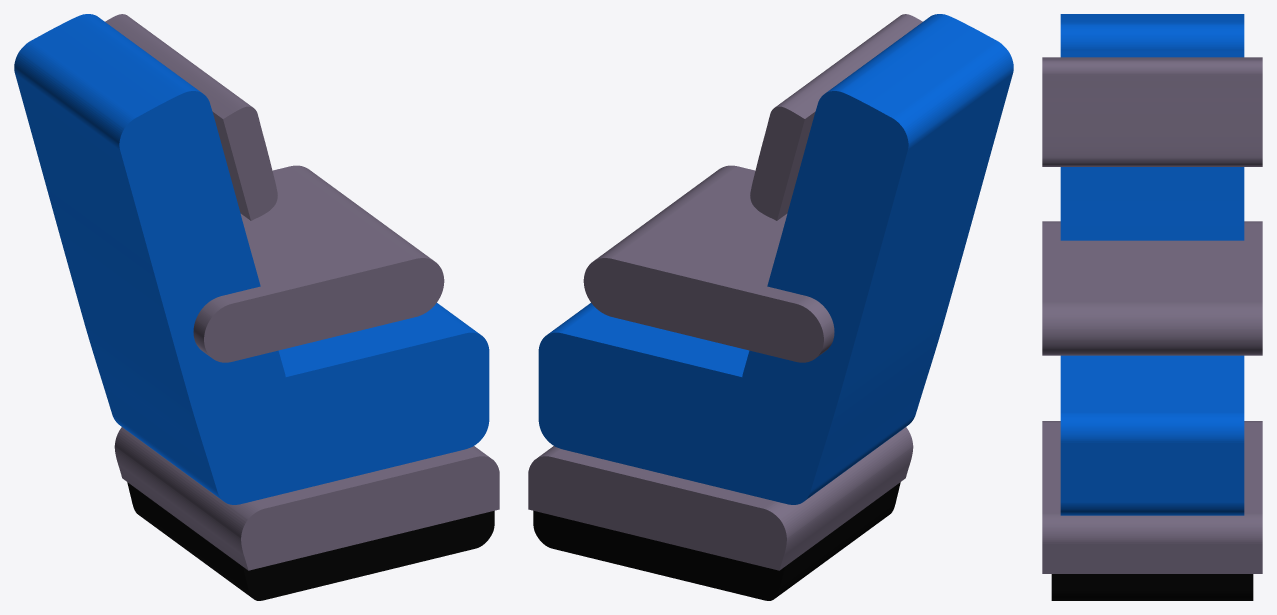
The picture shows the model from 3 angles, left to right: view 1: azimuth 30°, elevation 25°; view 2: azimuth 150°, elevation 25°; view 3: azimuth 270°, elevation 25°; orthographic projection. The views are drawn at different scales.
Visible parts, largest first — view 1: U+1F4BA_layer00_obj00, U+1F4BA_layer02_obj00, U+1F4BA_layer01_obj00; view 2: U+1F4BA_layer00_obj00, U+1F4BA_layer02_obj00, U+1F4BA_layer01_obj00; view 3: U+1F4BA_layer02_obj00, U+1F4BA_layer00_obj00, U+1F4BA_layer01_obj00.
Boxes of the visible parts, <box> form: U+1F4BA_layer00_obj00: <box>14,14,489,504</box>; U+1F4BA_layer02_obj00: <box>105,14,499,570</box>; U+1F4BA_layer01_obj00: <box>127,482,494,600</box>; U+1F4BA_layer00_obj00: <box>538,14,1013,504</box>; U+1F4BA_layer02_obj00: <box>528,14,922,570</box>; U+1F4BA_layer01_obj00: <box>533,482,900,600</box>; U+1F4BA_layer02_obj00: <box>1042,57,1262,573</box>; U+1F4BA_layer00_obj00: <box>1060,14,1244,515</box>; U+1F4BA_layer01_obj00: <box>1051,574,1253,600</box>.
Bounding box in the file's own units: 0.4058 × 0.5474 × 0.24.
